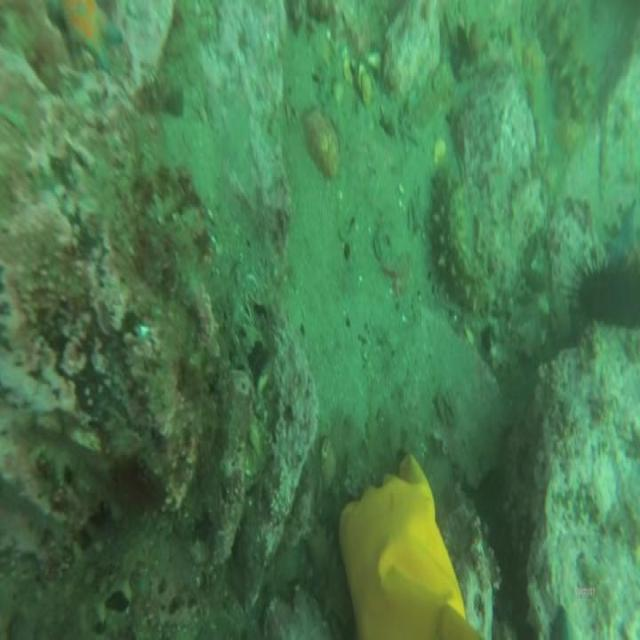echinus: (578, 262, 640, 330)
holothurian: (434, 178, 493, 314), (540, 4, 594, 102)
starfish: (56, 2, 121, 68)
